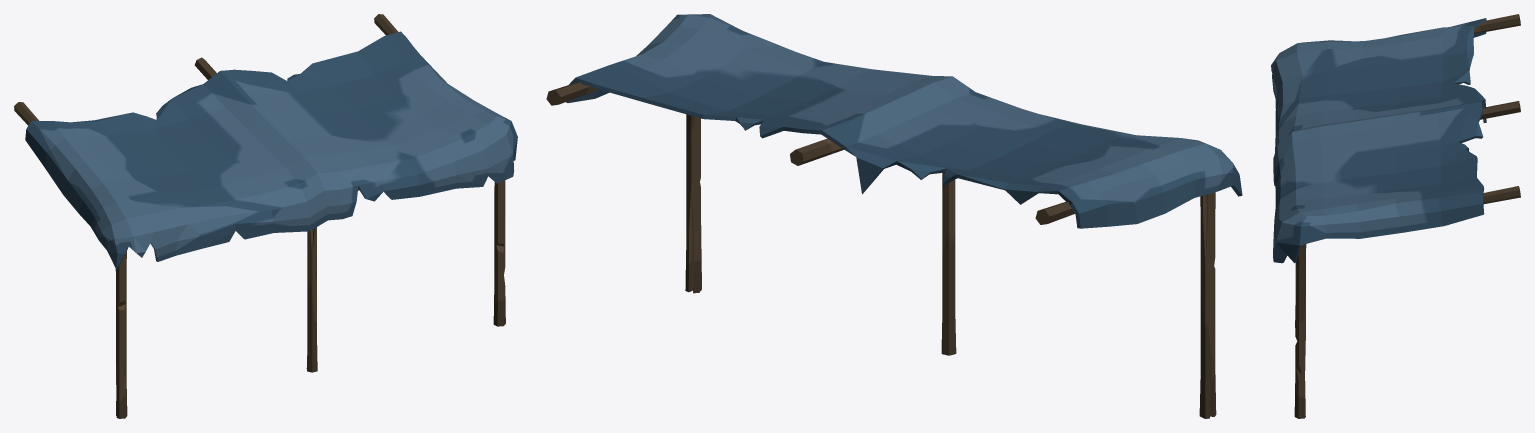
Rendered from SM_Prop_Awning_02.fbx.
3 renders of one model, left to right at view 1: azimuth 30°, elevation 25°; view 2: azimuth 150°, elevation 25°; view 3: azimuth 270°, elevation 25°, orthographic. The views are drawn at different scales.
Parts seen in each view (by area): view 1: SM_Prop_Awning_02; view 2: SM_Prop_Awning_02; view 3: SM_Prop_Awning_02.
Part boxes in pixels (x1,y1,x2,y2): SM_Prop_Awning_02: (14, 14, 517, 418); SM_Prop_Awning_02: (546, 14, 1242, 418); SM_Prop_Awning_02: (1271, 14, 1520, 418).
Size of the model in its own units: 520 by 278 by 279.
